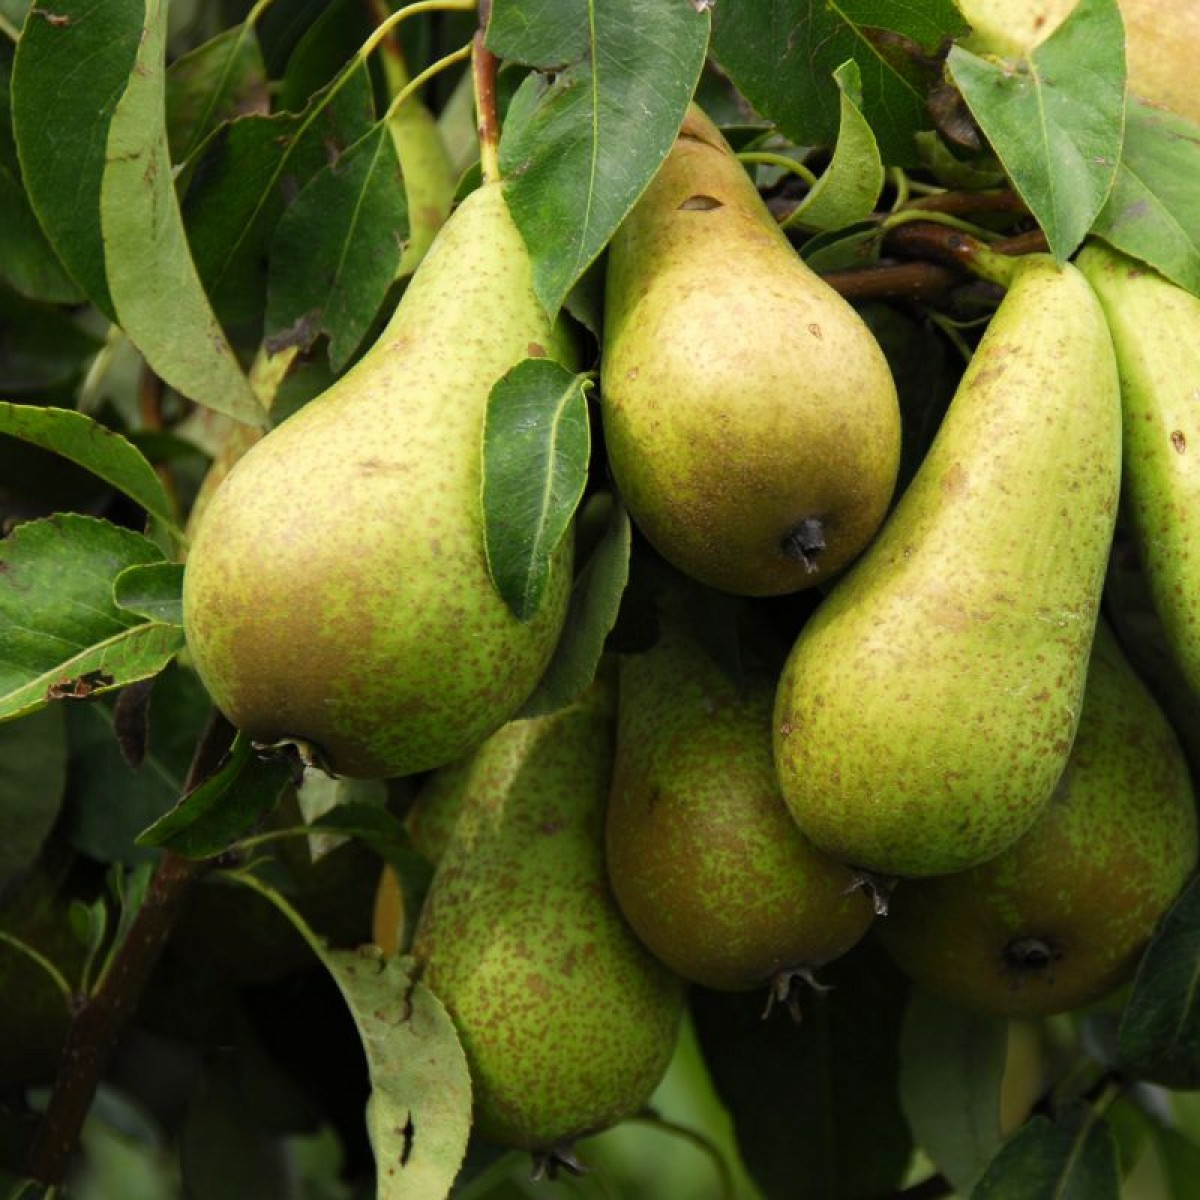pear: (184, 185, 569, 781), (769, 253, 1124, 886), (595, 65, 904, 607), (852, 587, 1200, 1008), (401, 686, 682, 1145), (605, 599, 852, 991)
